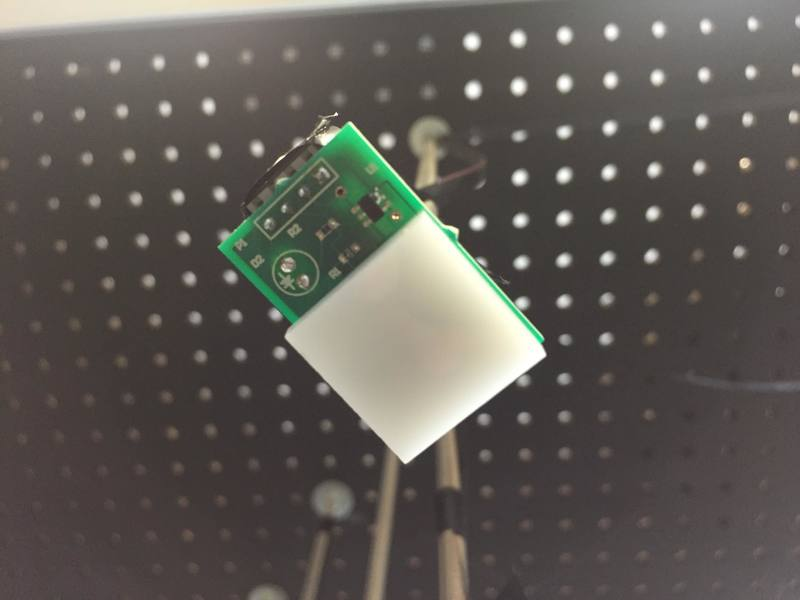target: (266, 226, 546, 467)
